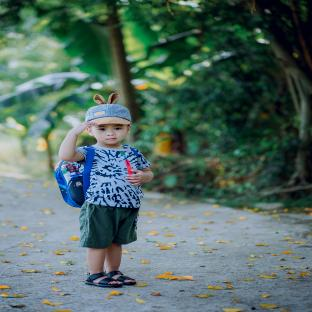Human: (59, 93, 153, 287)
